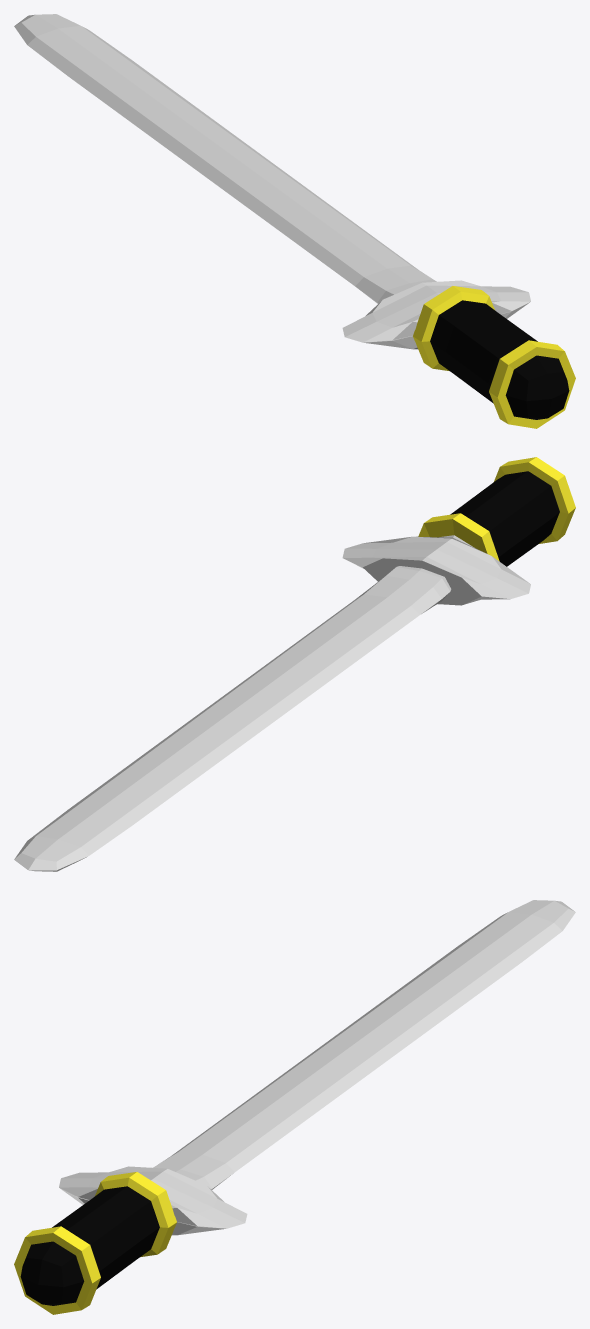
The model's file is Sword - ThroatSeeker.fbx.
The picture shows the model from 3 angles, top to bottom: view 1: azimuth 30°, elevation 25°; view 2: azimuth 150°, elevation 25°; view 3: azimuth 330°, elevation 25°; orthographic projection.
Visible parts, largest first — view 1: Sword - ThroatSeeker; view 2: Sword - ThroatSeeker; view 3: Sword - ThroatSeeker.
Boxes of the visible parts, x1,y1,x2,y2 form: Sword - ThroatSeeker: (14,14,575,428); Sword - ThroatSeeker: (14,457,575,871); Sword - ThroatSeeker: (14,900,575,1314).
Bounding box in the file's own units: 528 × 229 × 2600.
